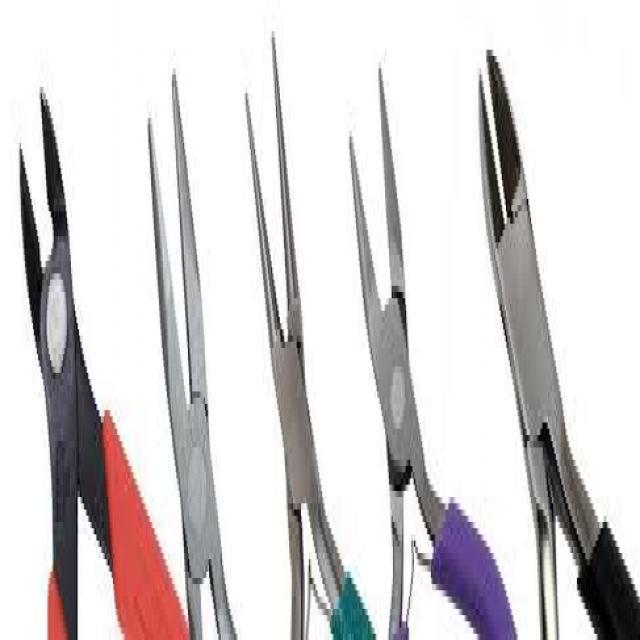pliers: (336, 40, 523, 640), (470, 9, 640, 640), (13, 62, 158, 640), (236, 0, 355, 640), (140, 18, 228, 640)
